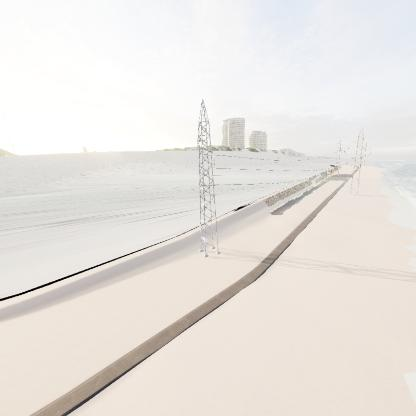tower: (191, 96, 224, 258)
